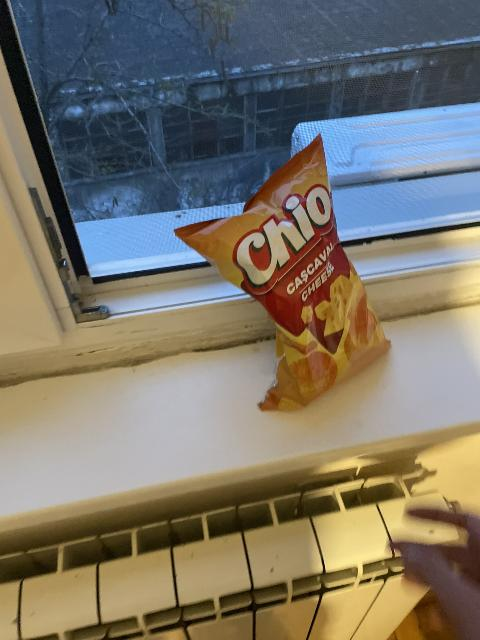Chio Cascaval 125g: (178, 134, 394, 408)
